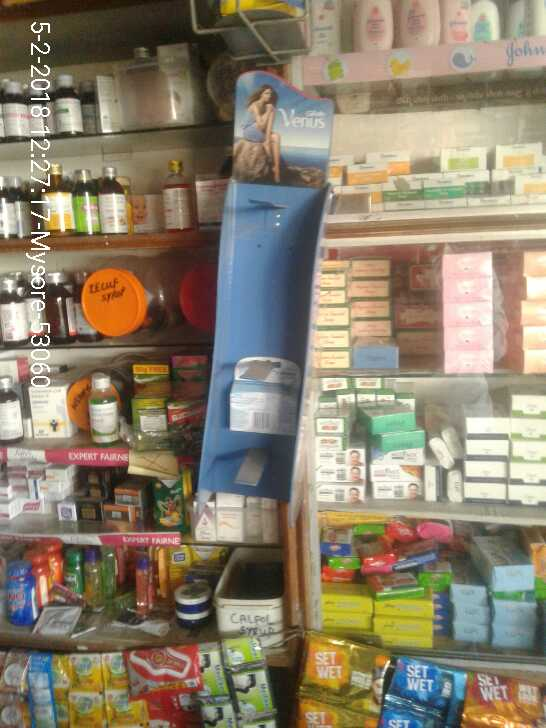reject: (153, 194, 325, 389)
